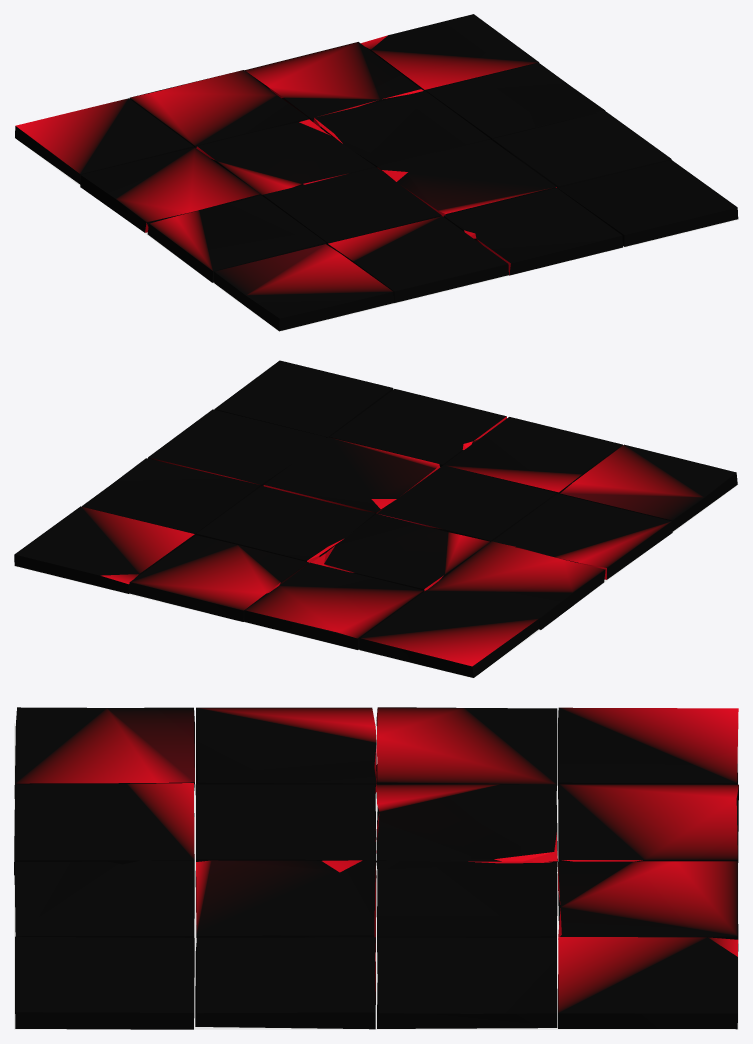
Rendered from SM_Goth_Ground.fbx.
The picture shows the model from 3 angles, top to bottom: view 1: azimuth 30°, elevation 25°; view 2: azimuth 150°, elevation 25°; view 3: azimuth 270°, elevation 25°; orthographic projection. The views are drawn at different scales.
Parts seen in each view (by area): view 1: SM_Goth_Ground; view 2: SM_Goth_Ground; view 3: SM_Goth_Ground.
Part boxes in pixels (left/top/right/bottom): SM_Goth_Ground: left=14, top=14, right=738, bottom=331; SM_Goth_Ground: left=14, top=360, right=738, bottom=678; SM_Goth_Ground: left=14, top=707, right=738, bottom=1029.
Bounding box in the file's own units: 400 × 400 × 10.92.
